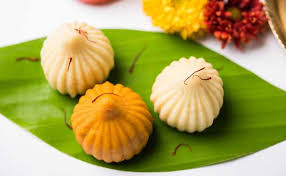modak: (63, 73, 158, 168), (151, 49, 236, 136), (36, 18, 122, 100)
